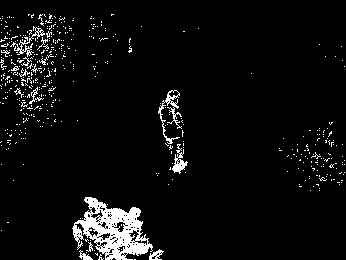person: (152, 84, 193, 177)
